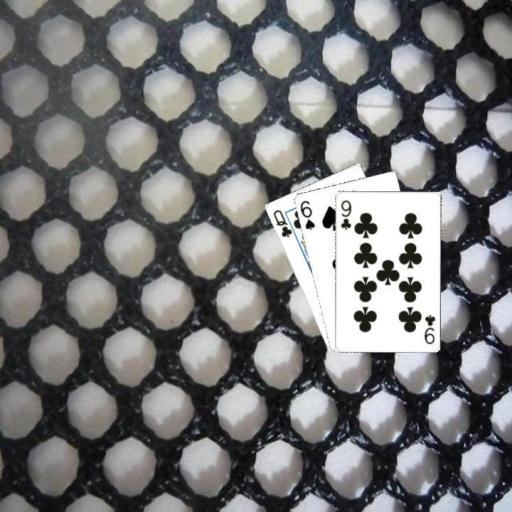6S: (297, 197, 316, 231)
9C: (421, 311, 437, 346), (337, 196, 352, 231)
QC: (269, 206, 293, 239)
